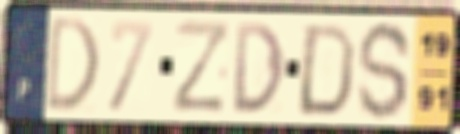7: (108, 17, 157, 115)
D: (293, 20, 359, 119), (43, 12, 102, 116), (232, 20, 288, 117)
S: (355, 18, 415, 123)
Z: (170, 17, 233, 117)
